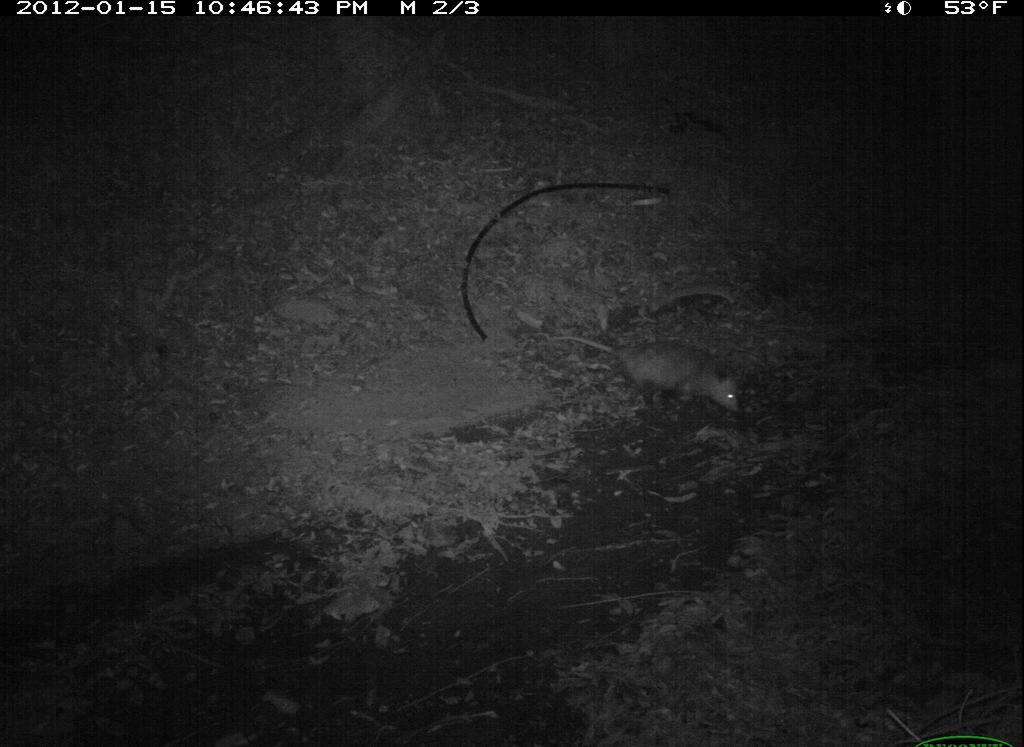opossum: (545, 324, 756, 427)
